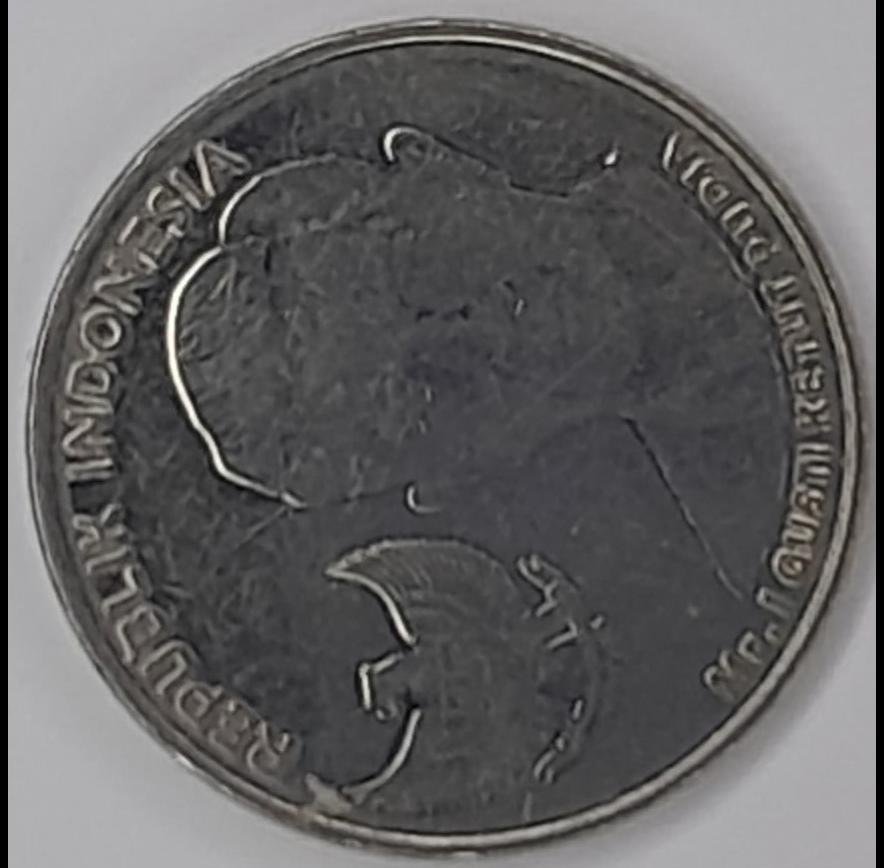coin_1000_e2016: (15, 17, 872, 868)
